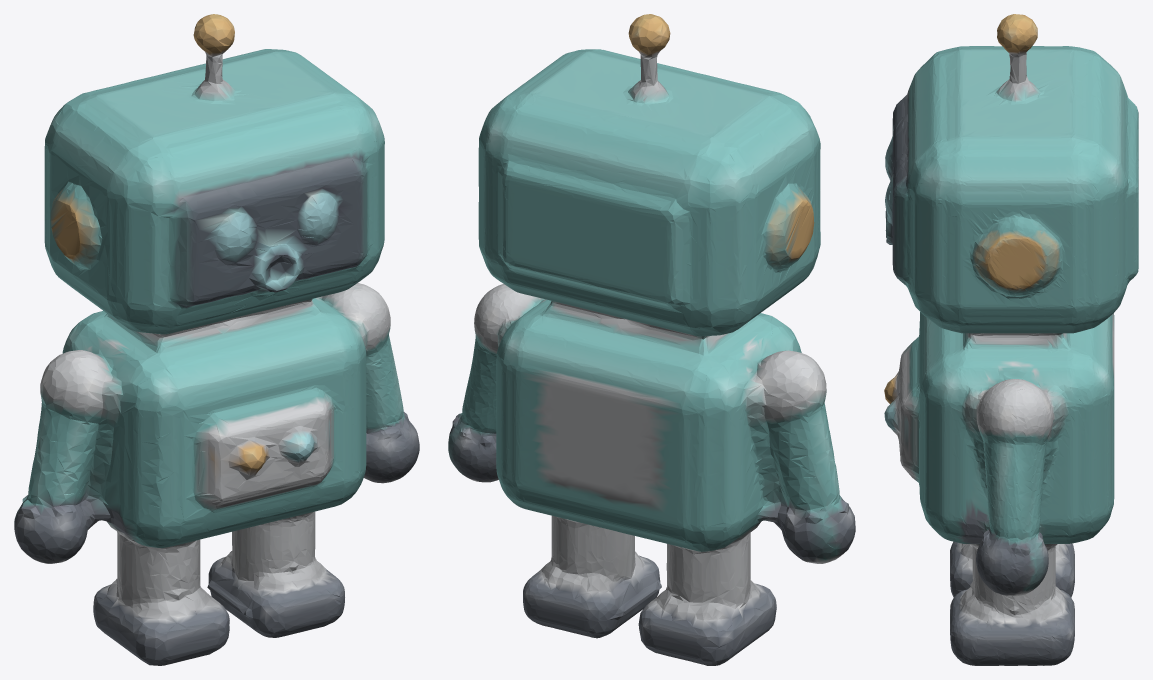
File: robot.glb
The picture shows the model from 3 angles, left to right: view 1: azimuth 30°, elevation 25°; view 2: azimuth 150°, elevation 25°; view 3: azimuth 270°, elevation 25°; orthographic projection.
Visible parts, largest first — view 1: geometry_0; view 2: geometry_0; view 3: geometry_0.
Part boxes in pixels (x1=…): geometry_0: x1=14, y1=14, x2=419, y2=665; geometry_0: x1=448, y1=14, x2=855, y2=665; geometry_0: x1=884, y1=14, x2=1138, y2=665.
Size of the model in its own units: 0.676 by 1 by 0.381.
